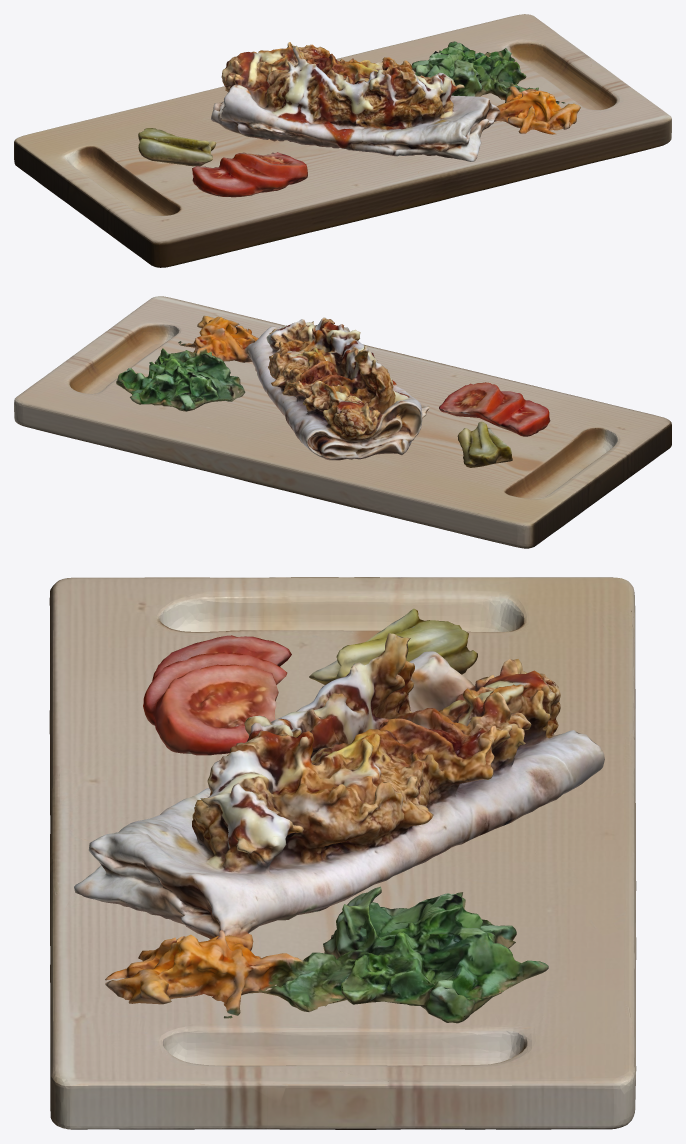
The model's file is Strip,lavash.glb.
The picture shows the model from 3 angles, top to bottom: view 1: azimuth 30°, elevation 25°; view 2: azimuth 150°, elevation 25°; view 3: azimuth 270°, elevation 25°; orthographic projection. The views are drawn at different scales.
Parts seen in each view (by area): view 1: world, 3DModel; view 2: world, 3DModel; view 3: world, 3DModel.
Part boxes in pixels (x1,y1,x2,y2): world: (14,14,671,267); 3DModel: (138,41,580,197); world: (14,296,671,548); 3DModel: (116,315,550,467); world: (49,577,636,1129); 3DModel: (74,608,604,1023).
Bounding box in the file's own units: 0.641 × 0.1268 × 0.3131.
Materials: 2 (2 with a texture image).
